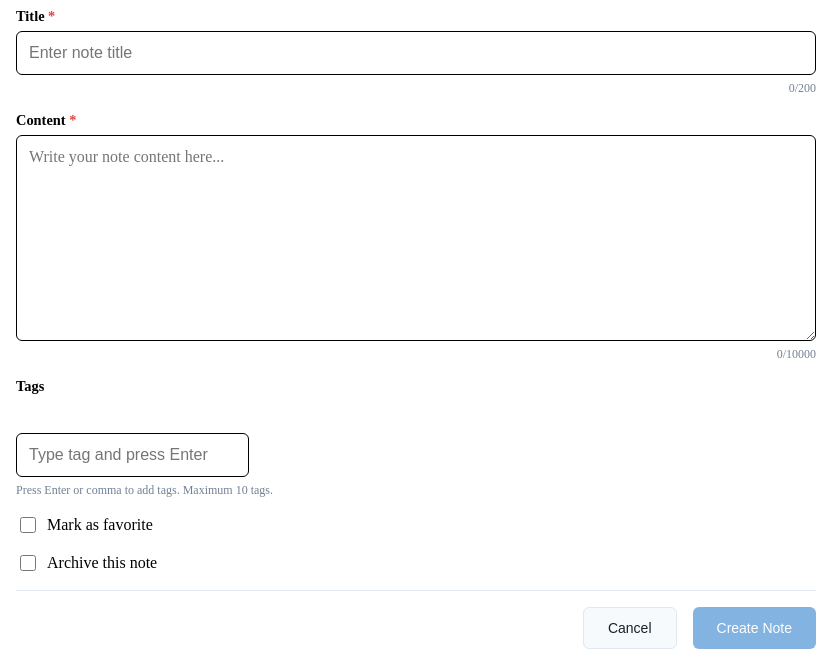
Test: NotesForm › Character Counting › should display character count for title
The width and height of the screenshot is (833, 666).
Type "Test title" into the field with id "title" at (416, 53), box [16, 31, 816, 75]
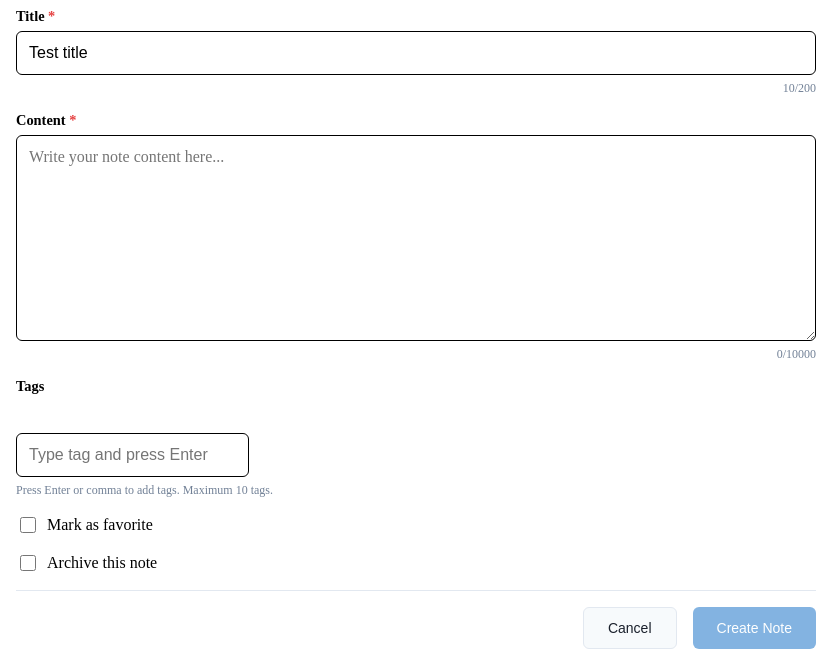
Check: the text with class "character-count" reads "10/200", box [783, 81, 816, 95]
